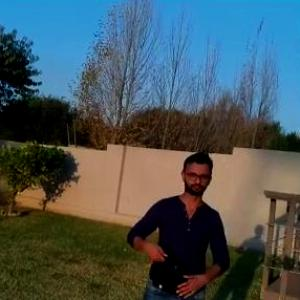follow: (122, 148, 234, 299)
